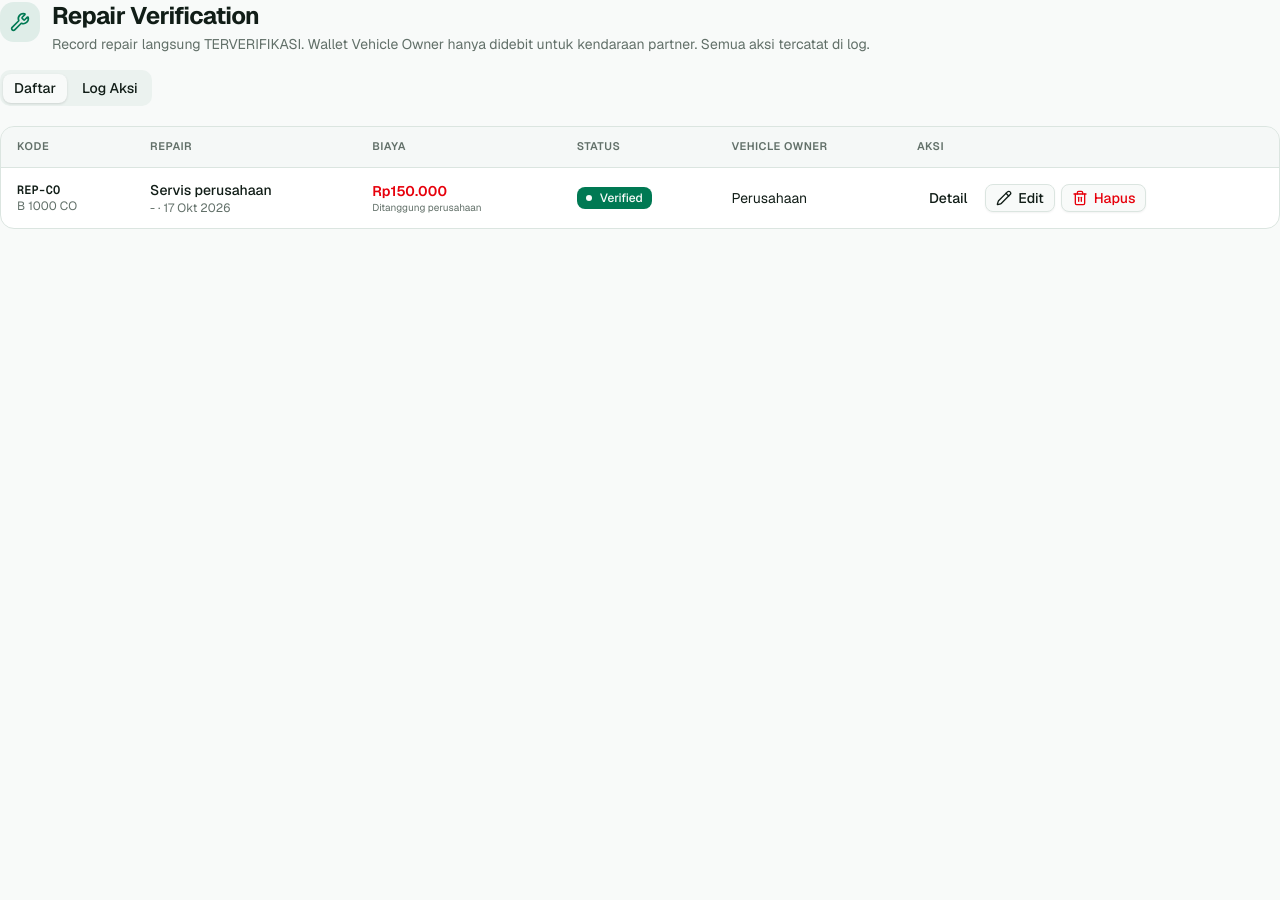
Test: labels company repair list, details, editing and deletion without partner accounting claims
Expected: the text "Ditanggung perusahaan" is shown, [372,201,482,214]
Expected: the text "Perusahaan" is shown, [731,189,807,207]
Click the button "Detail".
click(948, 198)  # box [917,184,979,212]
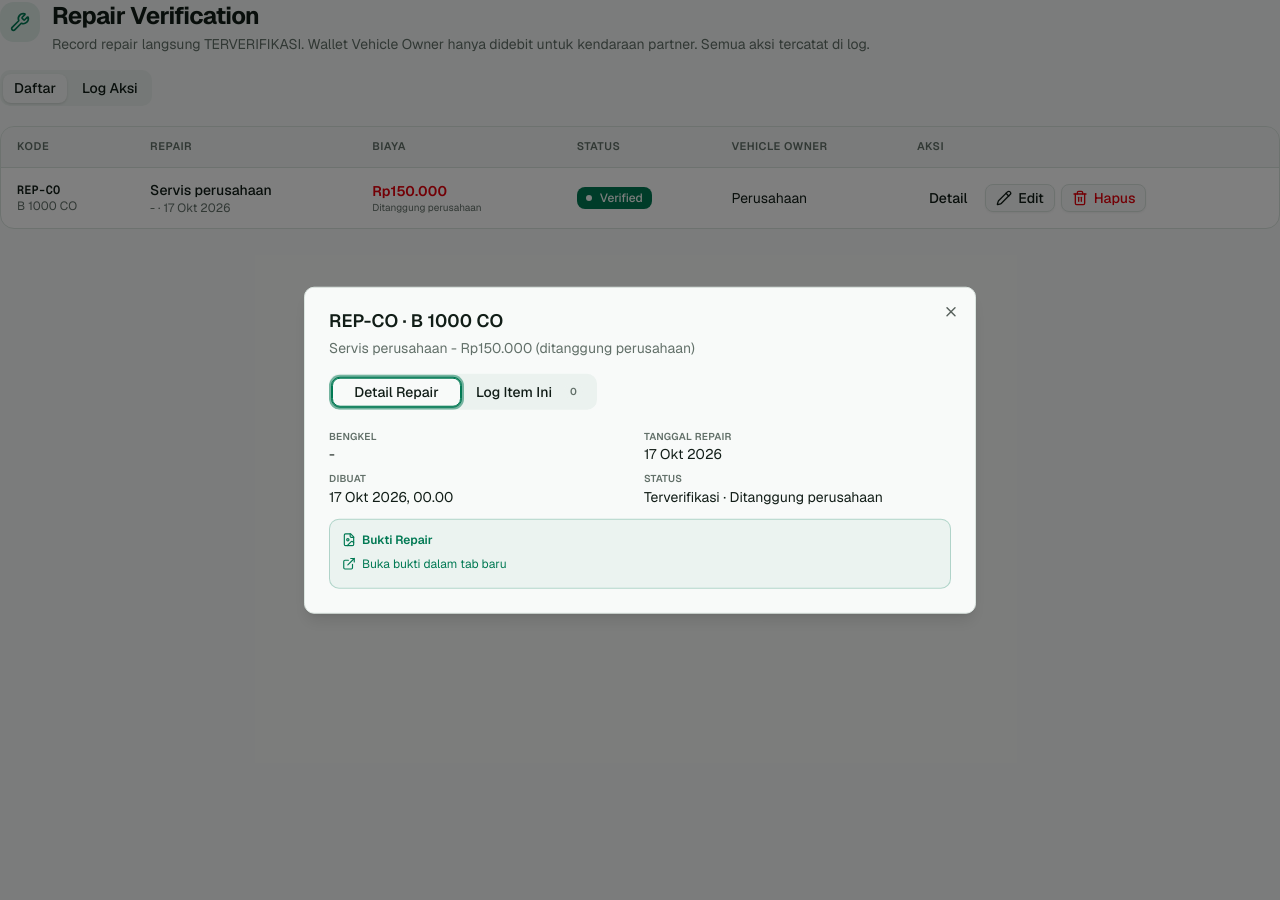
Expected: the text "Servis perusahaan - Rp150.000 (ditanggung perusahaan)" is shown, [329,339,695,357]
Expected: the text "Terverifikasi · Ditanggung perusahaan" is shown, [644,487,883,505]
Press Escape
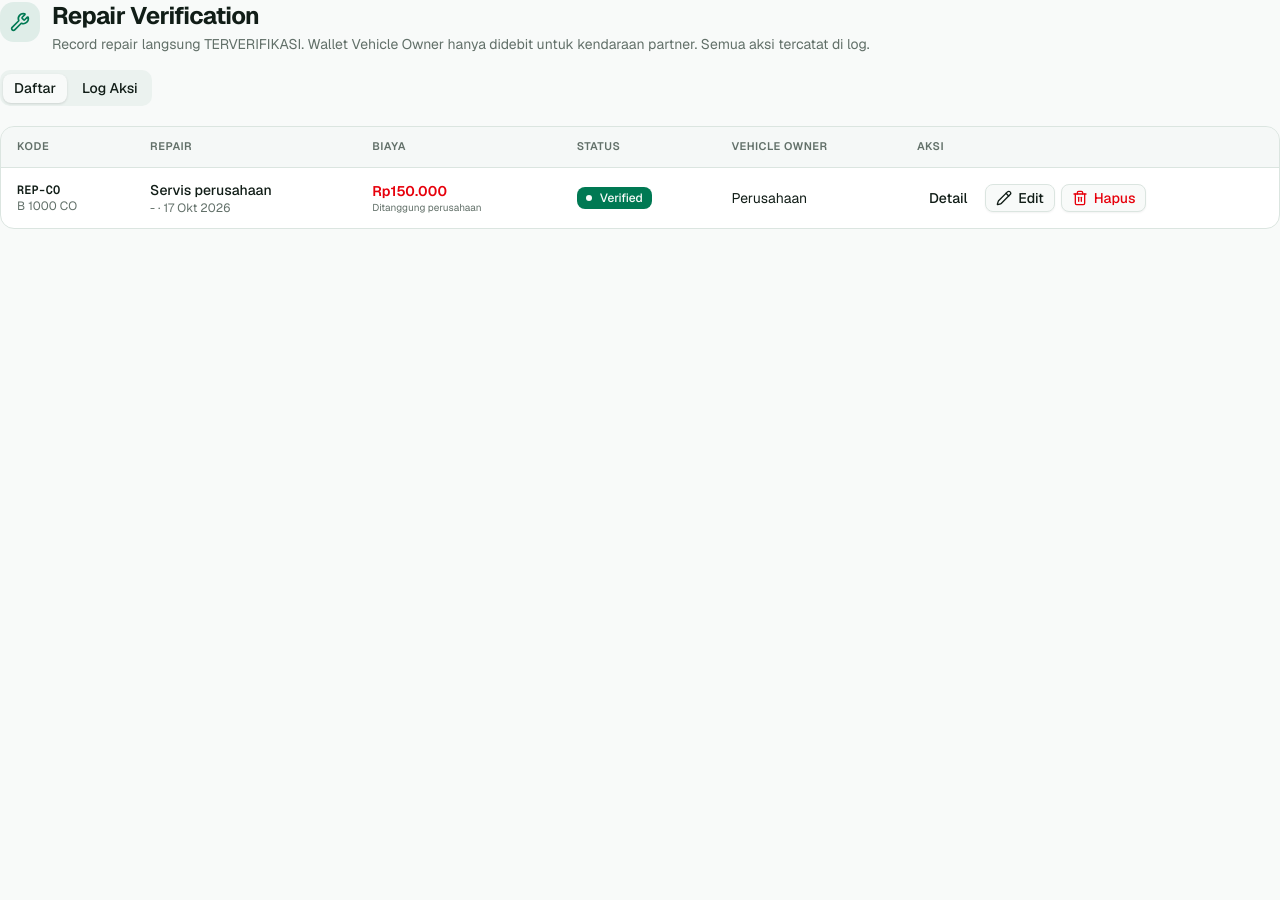
Click the button "Edit".
click(1020, 198)  # box [985,184,1055,212]
(page scrolled)
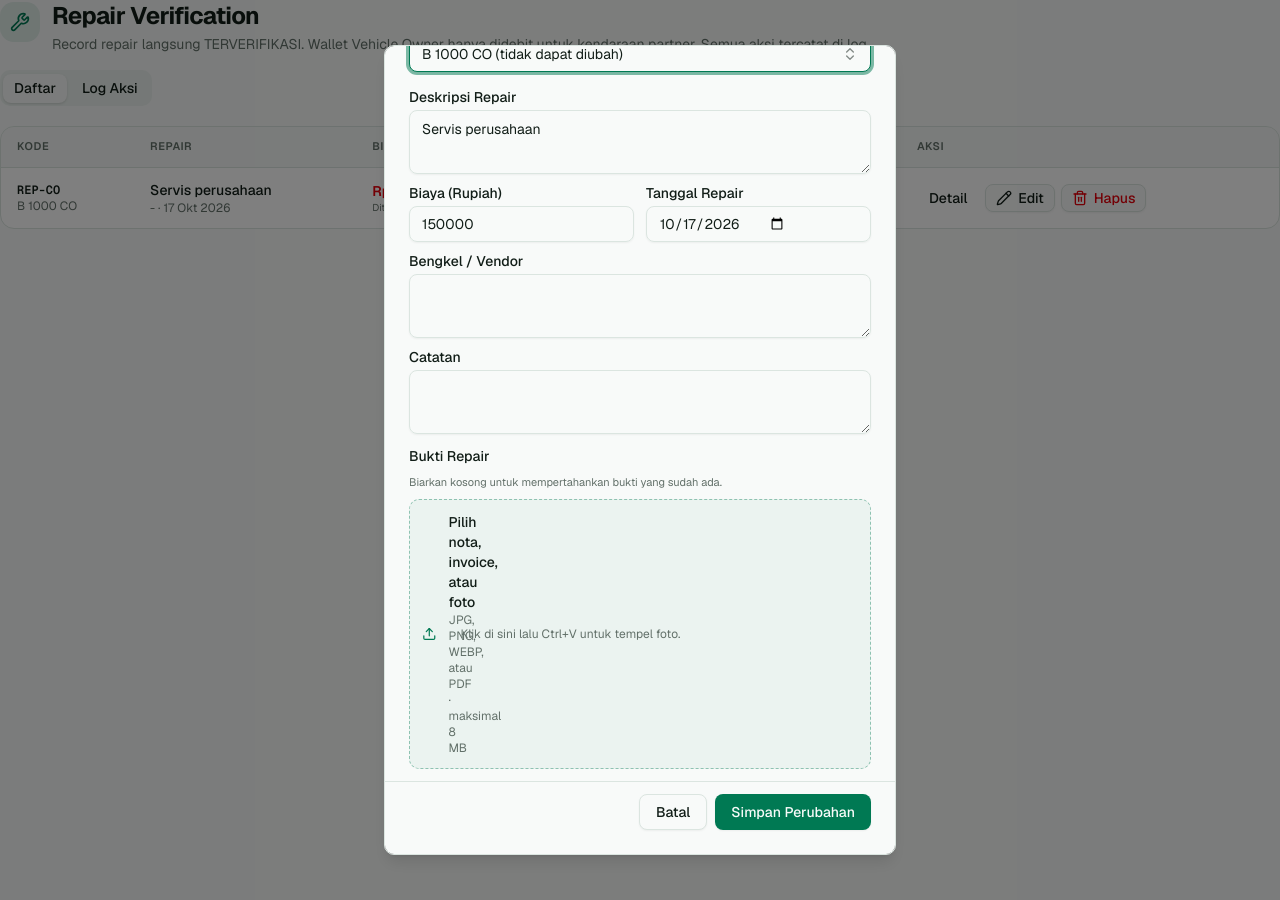
Click the button "Batal".
click(673, 812)  # box [639,794,707,830]
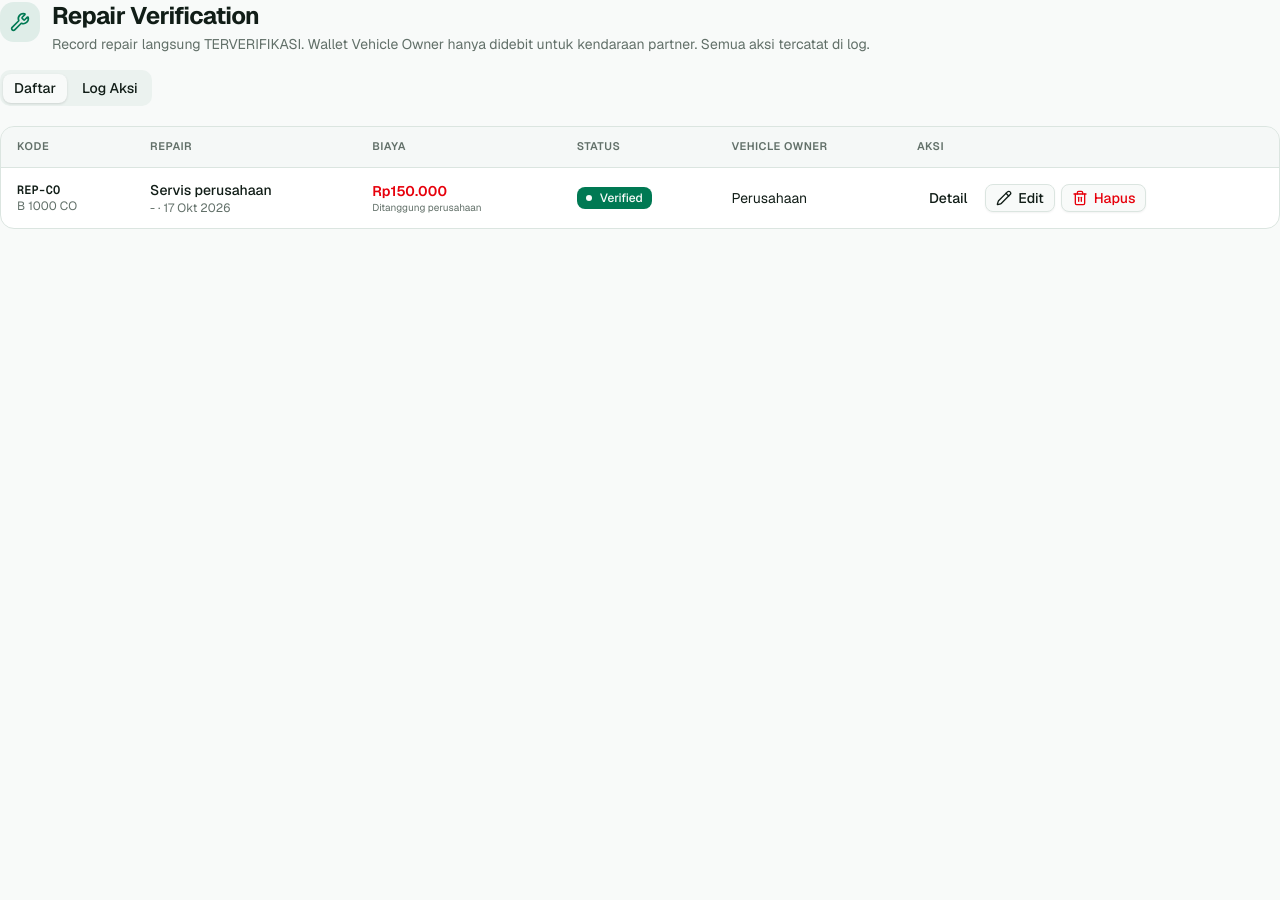
Click the button "Hapus".
click(1104, 198)  # box [1061,184,1146,212]
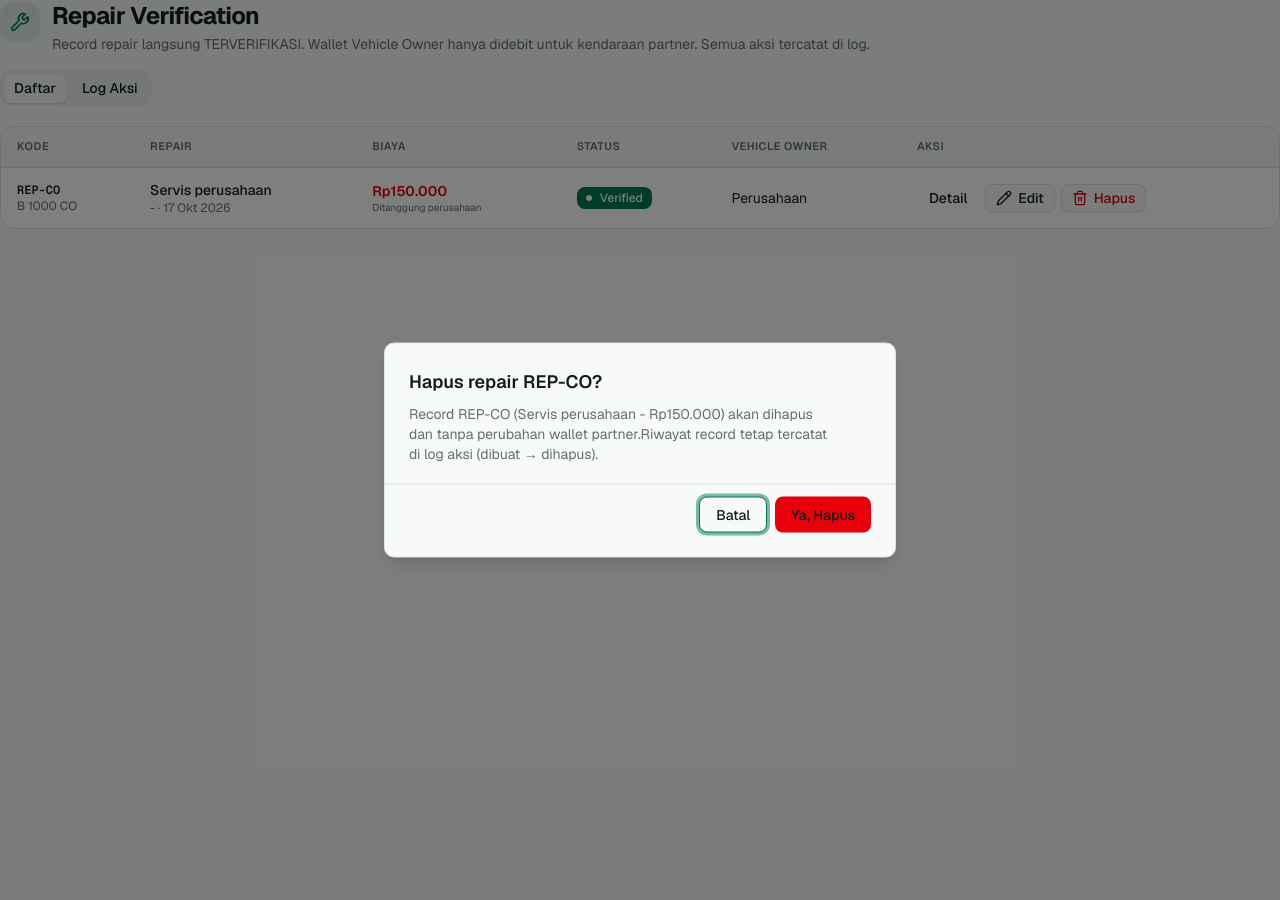
Expected: the text "tanpa perubahan wallet partner" is shown, [433,424,641,442]
